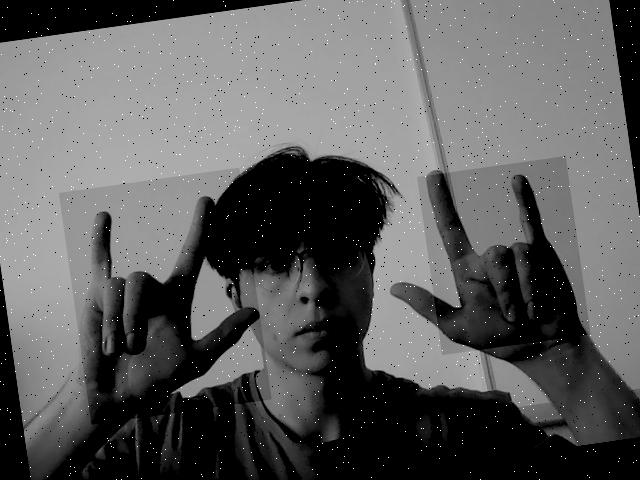I_Love_You: (60, 168, 272, 424), (417, 156, 591, 355)
